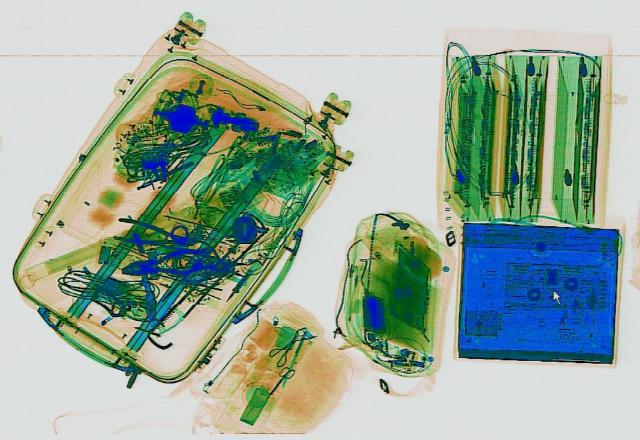Pliers: (159, 236, 259, 292), (115, 243, 212, 283), (109, 215, 199, 251)
